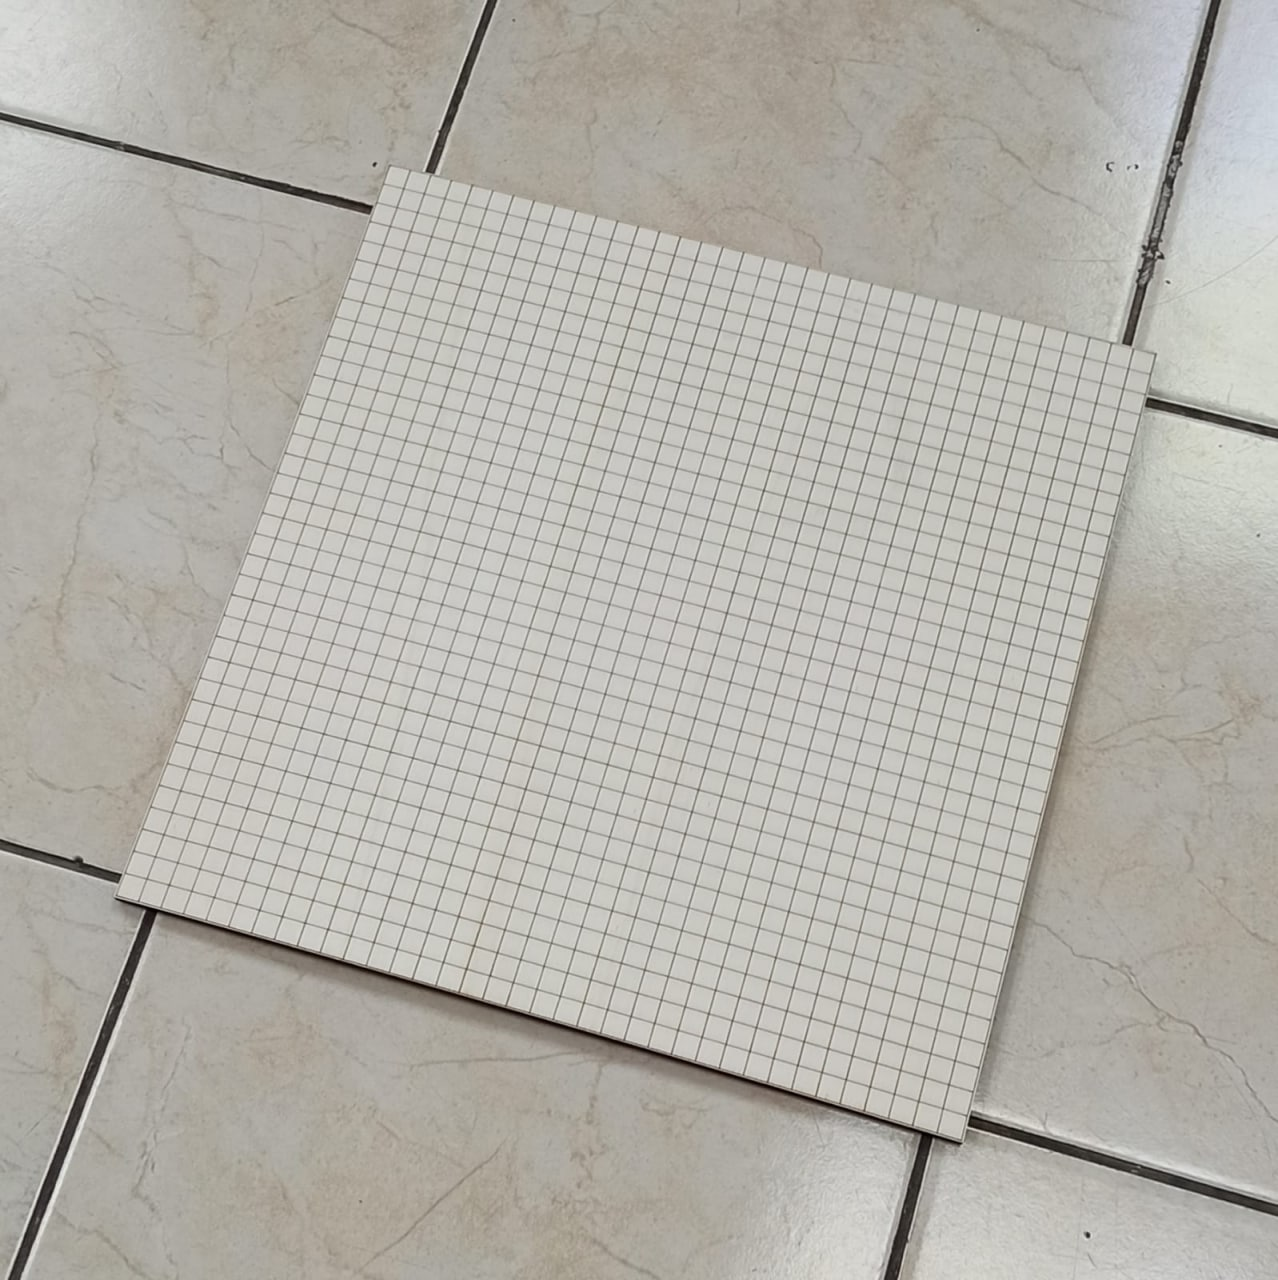grid: (110, 161, 1164, 1154)
